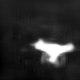plane: (29, 36, 76, 67)
